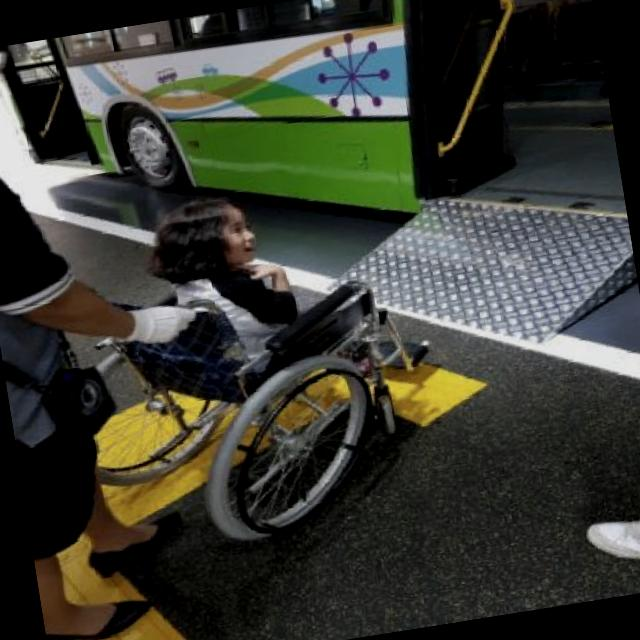Person: (56, 168, 457, 562), (0, 22, 251, 640)
